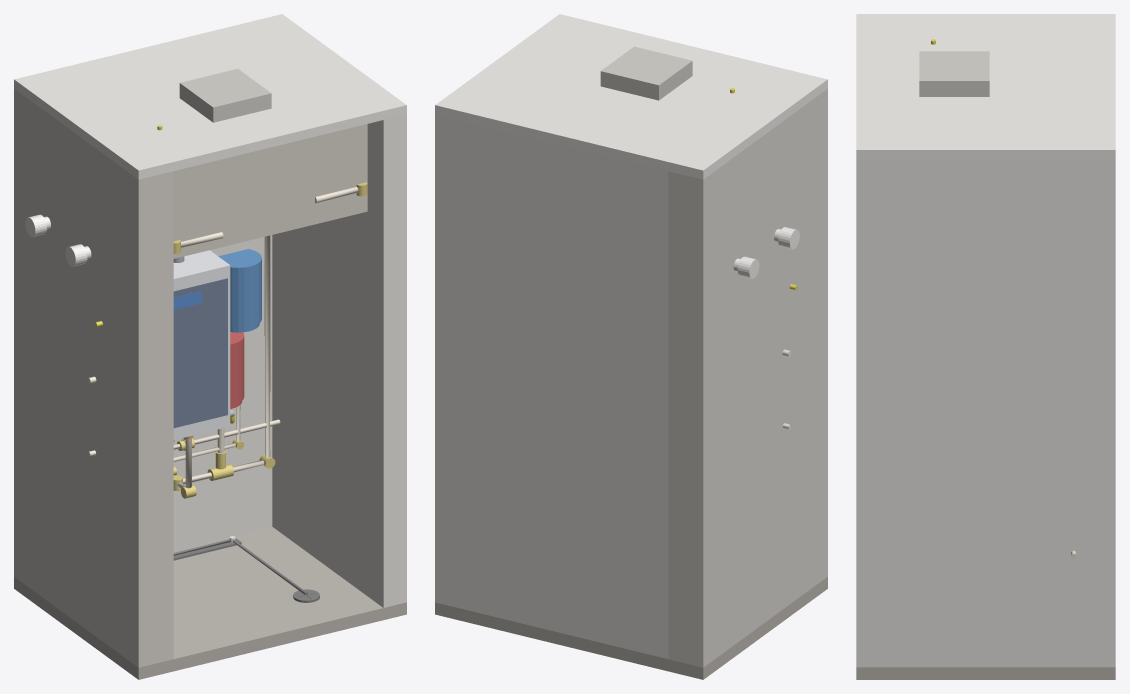
The model's file is boiler_closet_v14_i120cn.glb.
3 views of the same model, side by side, from view 1: azimuth 30°, elevation 25°; view 2: azimuth 150°, elevation 25°; view 3: azimuth 270°, elevation 25° (orthographic). The views are drawn at different scales.
Visible parts, largest first — view 1: WallLeft, WallRight, Ceiling, Floor, AirHandler, WallBack, RinnaiFace, SupplyDuct, Rinnai, ExpTank_DHW, CH_Supply, ExpTank_CH; view 2: WallBack, WallLeft, Ceiling, WallRight, Floor, SupplyDuct; view 3: WallRight, Ceiling, Floor, SupplyDuct.
Part boxes in pixels (<box>): WallLeft: <box>14,89,173,667</box>; WallRight: <box>272,114,406,607</box>; Ceiling: <box>14,14,406,179</box>; Floor: <box>14,526,406,679</box>; AirHandler: <box>173,124,367,258</box>; WallBack: <box>173,235,272,550</box>; RinnaiFace: <box>173,278,227,428</box>; SupplyDuct: <box>179,68,271,122</box>; Rinnai: <box>173,250,230,439</box>; ExpTank_DHW: <box>218,249,261,328</box>; CH_Supply: <box>177,187,358,489</box>; ExpTank_CH: <box>230,332,244,405</box>; WallBack: <box>458,120,668,658</box>; WallLeft: <box>668,89,827,667</box>; Ceiling: <box>435,14,827,179</box>; WallRight: <box>435,114,458,607</box>; Floor: <box>435,577,827,679</box>; SupplyDuct: <box>600,46,692,100</box>; WallRight: <box>856,159,1115,667</box>; Ceiling: <box>856,14,1115,159</box>; Floor: <box>856,667,1115,679</box>; SupplyDuct: <box>919,51,989,96</box>.
Size of the model in its own units: 1.27 by 2.18 by 0.9398.
